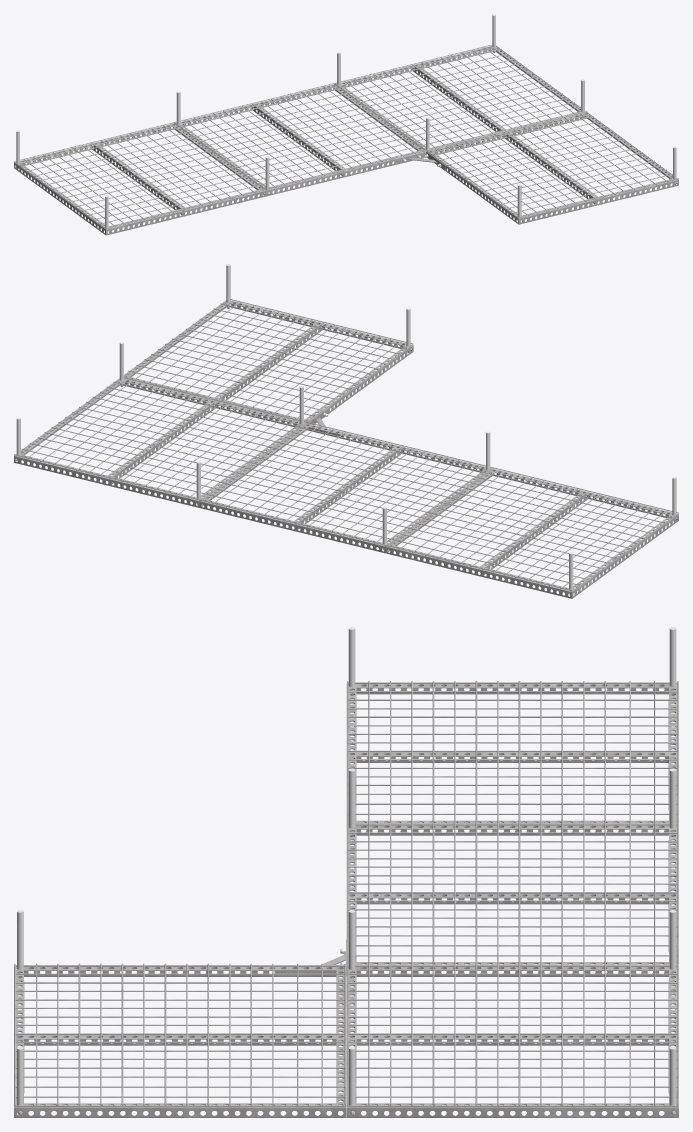
File: PQL6.glb
3 renders of one model, top to bottom at view 1: azimuth 30°, elevation 25°; view 2: azimuth 150°, elevation 25°; view 3: azimuth 270°, elevation 25°, orthographic. The views are drawn at different scales.
Visible parts, largest first — view 1: Grill004, Rods004; view 2: Grill004, Rods004; view 3: Grill004, Rods004.
Part boxes in pixels (x1=…): Grill004: x1=14, y1=44, x2=678, y2=235; Rods004: x1=16, y1=14, x2=676, y2=233; Grill004: x1=14, y1=299, x2=678, y2=598; Rods004: x1=16, y1=264, x2=676, y2=596; Grill004: x1=14, y1=681, x2=678, y2=1117; Rods004: x1=17, y1=627, x2=676, y2=1115.
Size of the model in its own units: 93.35 by 6.97 by 61.88.
2 materials, 2 textured.
